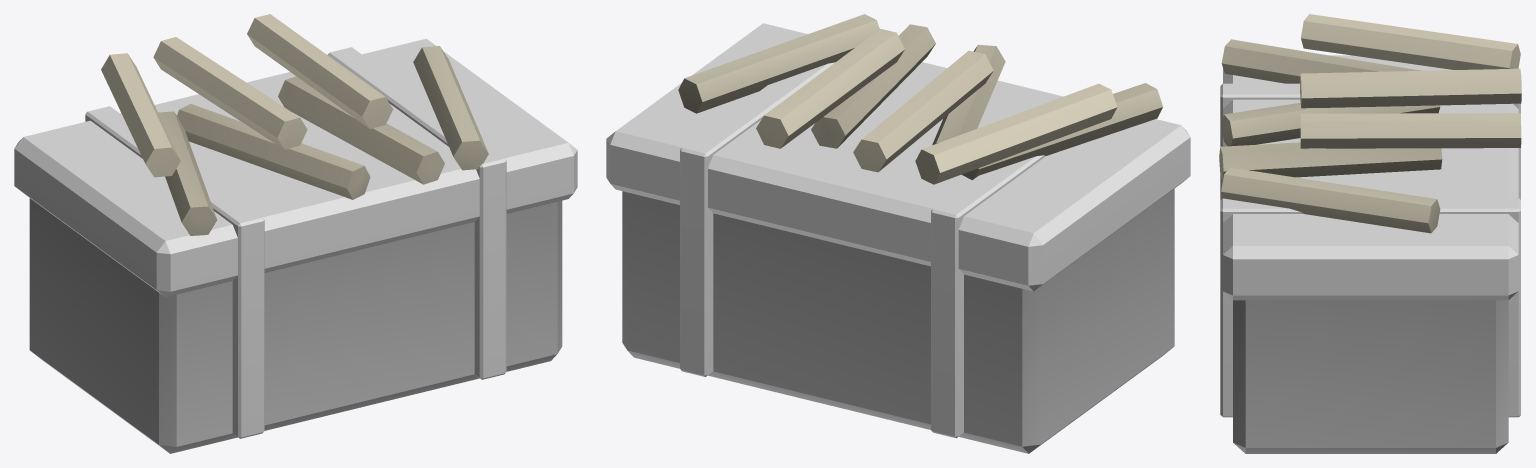
The model's file is scroll_chest.glb.
The picture shows the model from 3 angles, left to right: view 1: azimuth 30°, elevation 25°; view 2: azimuth 150°, elevation 25°; view 3: azimuth 270°, elevation 25°; orthographic projection. The views are drawn at different scales.
Parts seen in each view (by area): view 1: chest; view 2: chest; view 3: chest.
Boxes of the visible parts, <box> form: chest: <box>14,14,577,453</box>; chest: <box>606,14,1190,453</box>; chest: <box>1219,14,1521,453</box>.
Bounding box in the file's own units: 0.94 × 0.5903 × 0.6042.
